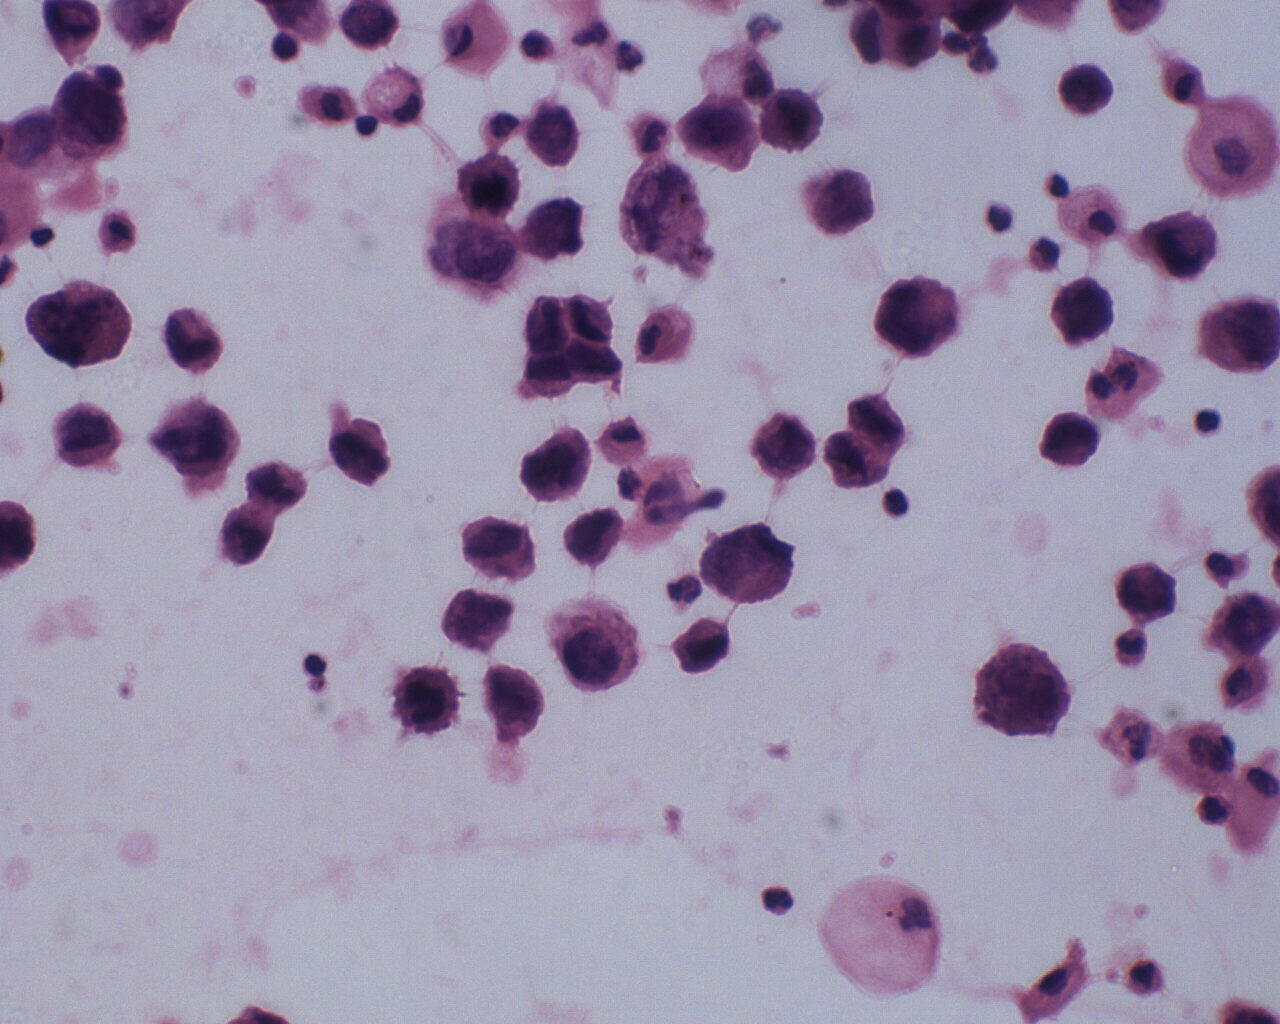ab: (969, 636, 1074, 744), (548, 592, 644, 697), (26, 282, 131, 375), (874, 272, 963, 362), (51, 68, 135, 164), (1193, 292, 1280, 383), (678, 88, 762, 182), (1134, 201, 1221, 286), (46, 393, 123, 478), (518, 424, 591, 508), (324, 409, 398, 488), (461, 508, 533, 583), (746, 408, 819, 480), (395, 664, 465, 736), (160, 298, 224, 375), (760, 83, 828, 154), (455, 153, 523, 222), (562, 501, 629, 572), (1051, 276, 1116, 347), (519, 96, 579, 172), (1040, 408, 1101, 474), (1114, 556, 1176, 618), (1053, 61, 1117, 120)
histo: (820, 872, 944, 1004), (435, 1, 511, 80), (1057, 176, 1128, 247), (362, 62, 425, 132)
lymph: (877, 482, 913, 517)
neutro: (612, 36, 642, 74)
